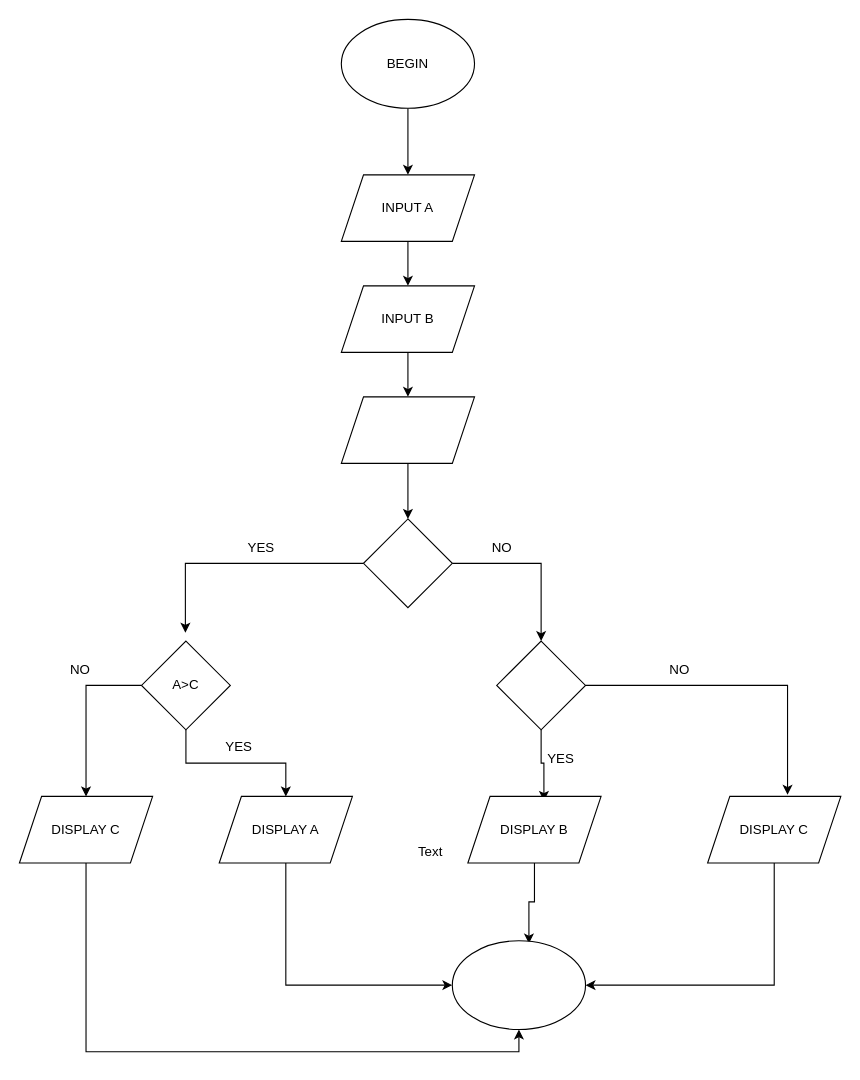
The diagram is 860 pixels wide and 1080 high, and some of its shapes have lost their labels. The centre of each missing label's shape, as x and y in pixels:
"A>B" goes at (407,563).
"B>C" goes at (541,685).
"END" goes at (518,985).
"INPUT C" goes at (407,429).
